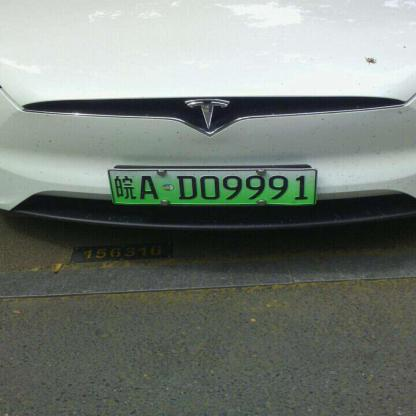lp: (109, 168, 317, 204)
